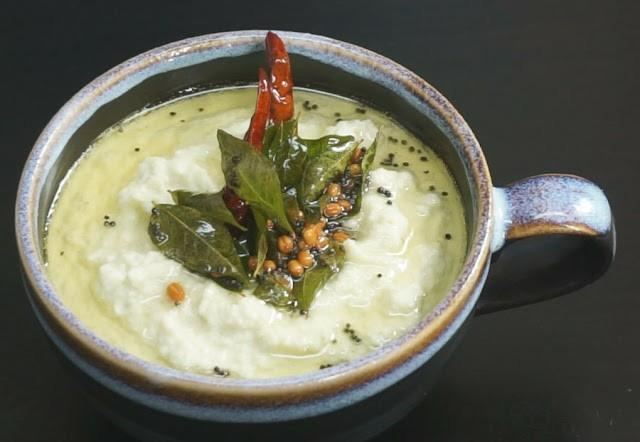CoconutChutney: (48, 84, 466, 377)
